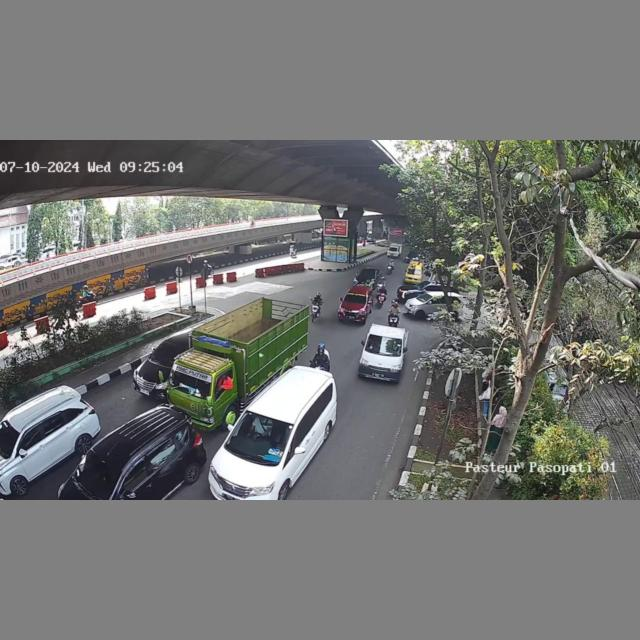windshield: (223, 411, 291, 459), (78, 449, 124, 494), (173, 368, 212, 397), (364, 332, 404, 359), (150, 336, 184, 364), (343, 291, 368, 307)
